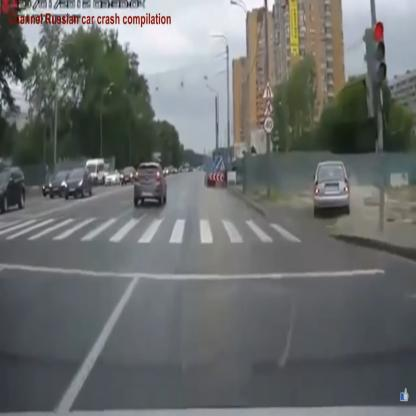crosswalk: (2, 216, 301, 245)
